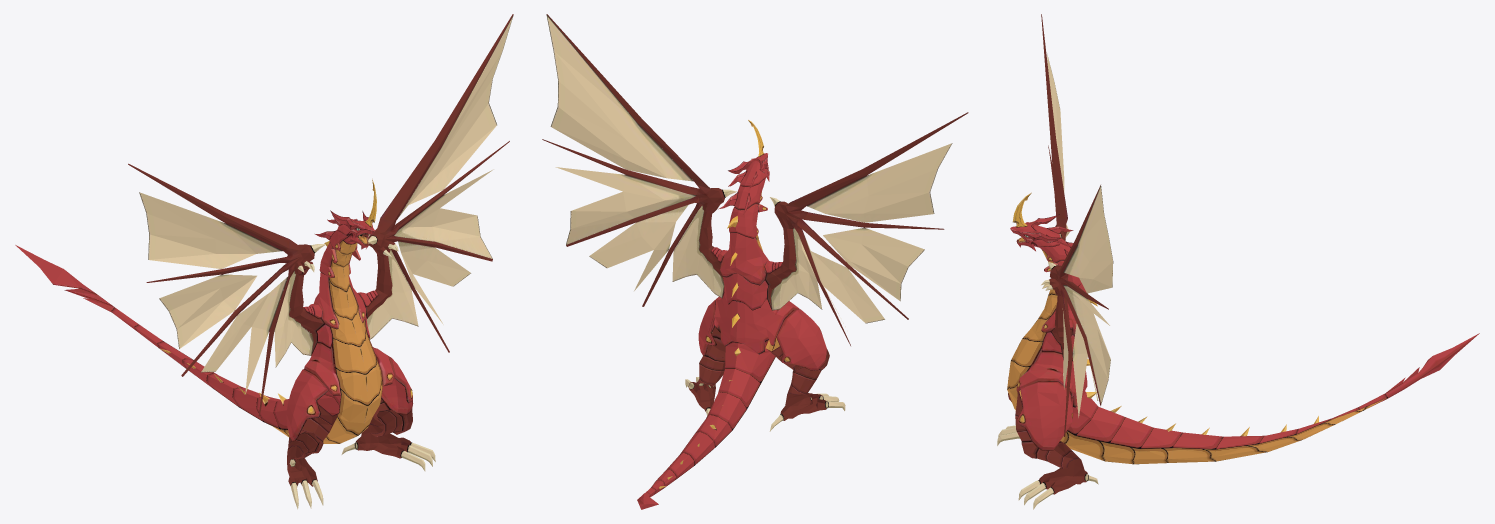
The model's file is drago.glb.
3 renders of one model, left to right at view 1: azimuth 30°, elevation 25°; view 2: azimuth 150°, elevation 25°; view 3: azimuth 270°, elevation 25°, orthographic. The views are drawn at different scales.
Parts seen in each view (by area): view 1: Object_3, Object_7, Object_4, Object_5; view 2: Object_3, Object_7, Object_4, Object_5; view 3: Object_4, Object_3, Object_5, Object_7.
Boxes of the visible parts, x1,y1,x2,y2 form: Object_3: [139, 15, 513, 509]; Object_7: [128, 14, 513, 486]; Object_4: [160, 179, 413, 443]; Object_5: [15, 210, 378, 429]; Object_3: [546, 14, 952, 431]; Object_7: [542, 14, 968, 420]; Object_4: [659, 120, 826, 489]; Object_5: [637, 153, 782, 509]; Object_4: [1007, 192, 1386, 464]; Object_3: [997, 54, 1113, 509]; Object_5: [1010, 214, 1479, 449]; Object_7: [1008, 14, 1108, 494].
Size of what is drawn, in the model's own units: 283 by 258 by 296.
Materials: 4 (4 with a texture image).
